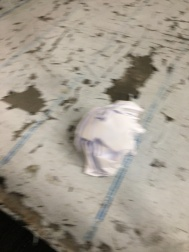paper_white: (64, 85, 149, 186)
